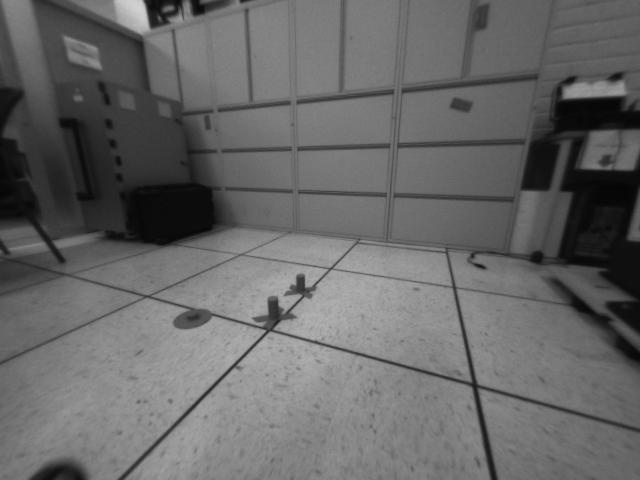X: (251, 295, 299, 332), (282, 270, 317, 298)
